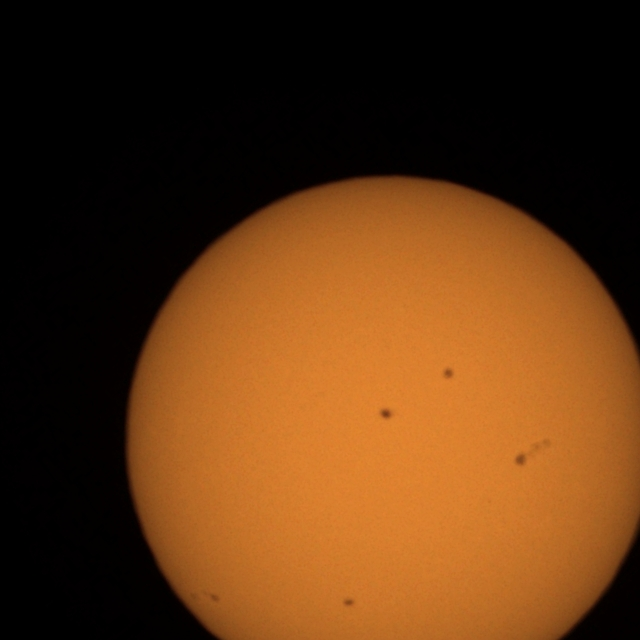sunspot: (514, 438, 552, 468), (189, 590, 221, 606), (513, 451, 529, 469), (378, 406, 395, 422), (440, 366, 456, 382), (208, 590, 222, 604), (342, 596, 356, 608)
